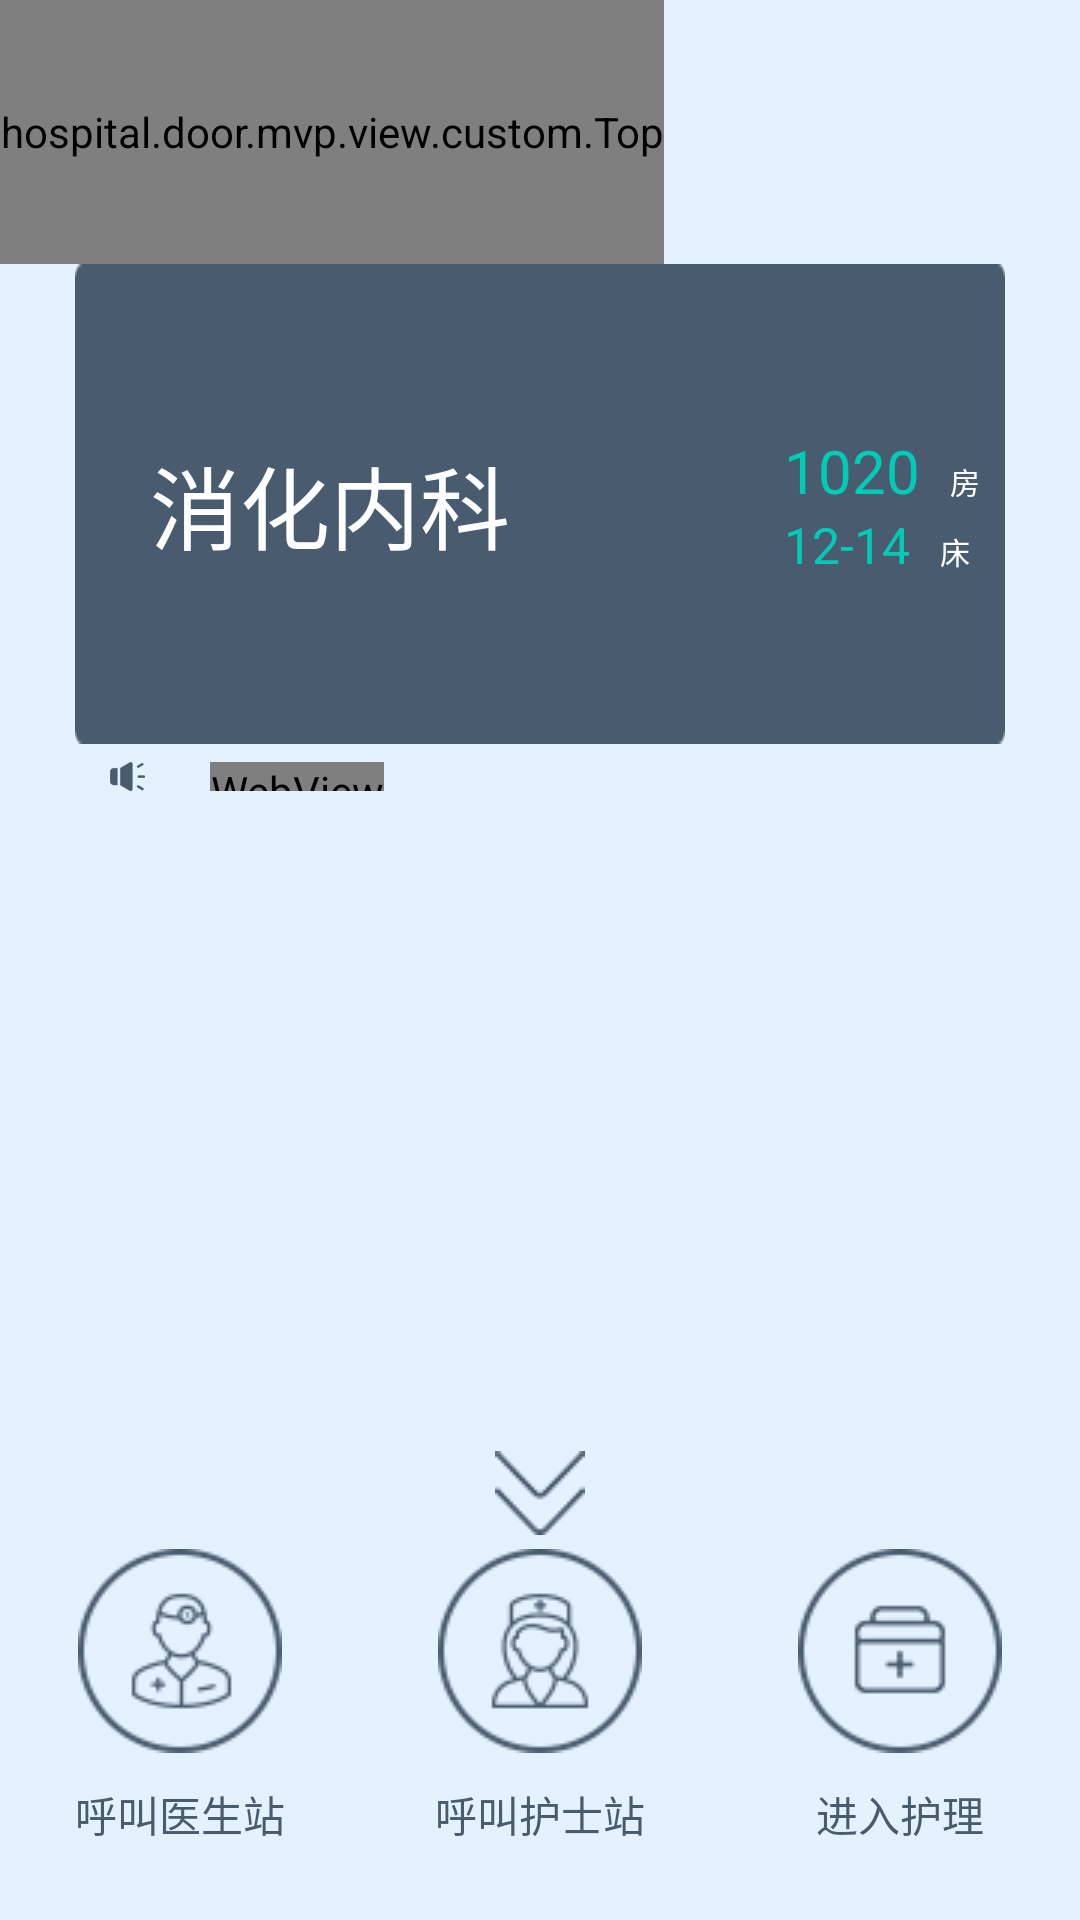

Named icons in this screenshot (1080*1920) and their centers, (x,y):
marquee: (127,776)
